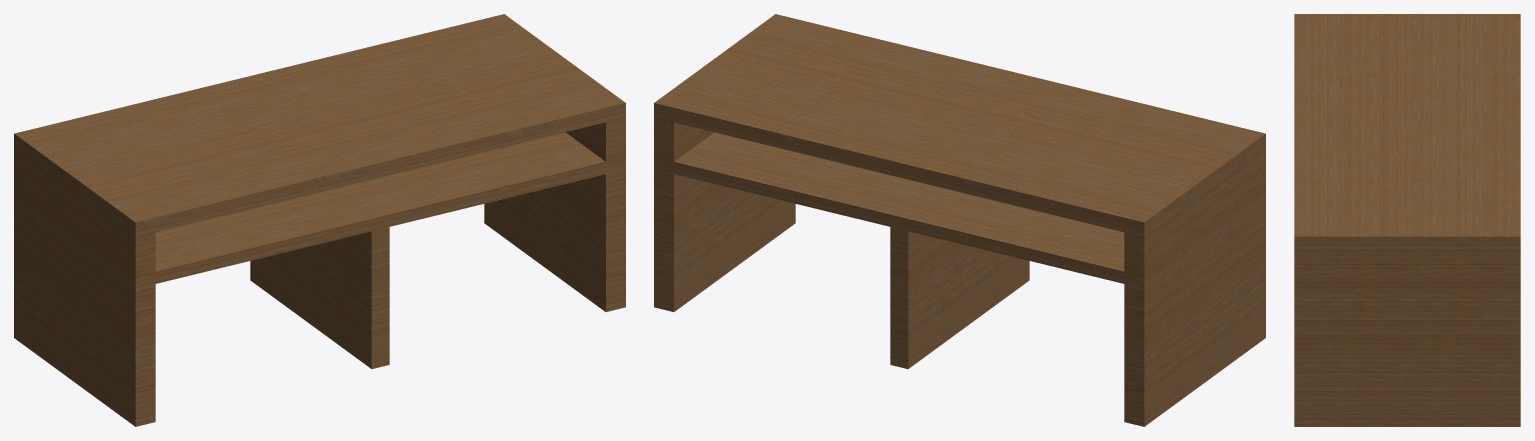
Rendered from hackTv.fbx.
3 renders of one model, left to right at view 1: azimuth 30°, elevation 25°; view 2: azimuth 150°, elevation 25°; view 3: azimuth 270°, elevation 25°, orthographic. The views are drawn at different scales.
Visible parts, largest first — view 1: Box001; view 2: Box001; view 3: Box001.
Part boxes in pixels (x1,y1,x2,y2): Box001: (14,14,625,426); Box001: (654,14,1265,426); Box001: (1294,14,1520,426).
Bounding box in the file's own units: 108 × 43.08 × 46.42.
